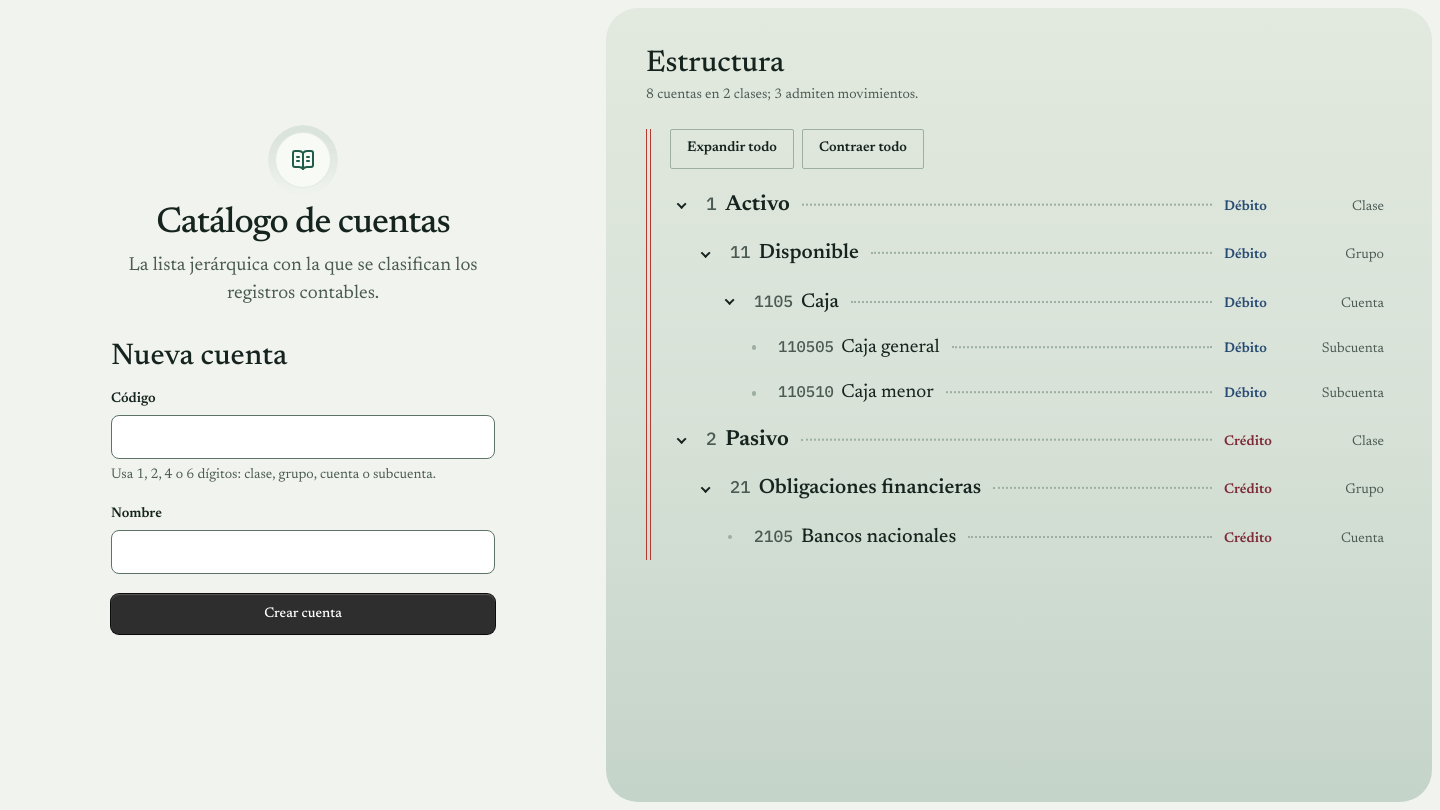
Test: AccountsPage › deleting › deletes an account after confirming and refreshes the tree
Expected: the list is shown, [670,181,1392,560]
Click the text "Caja menor" at coordinates (888, 393), box [841,378,934,408]
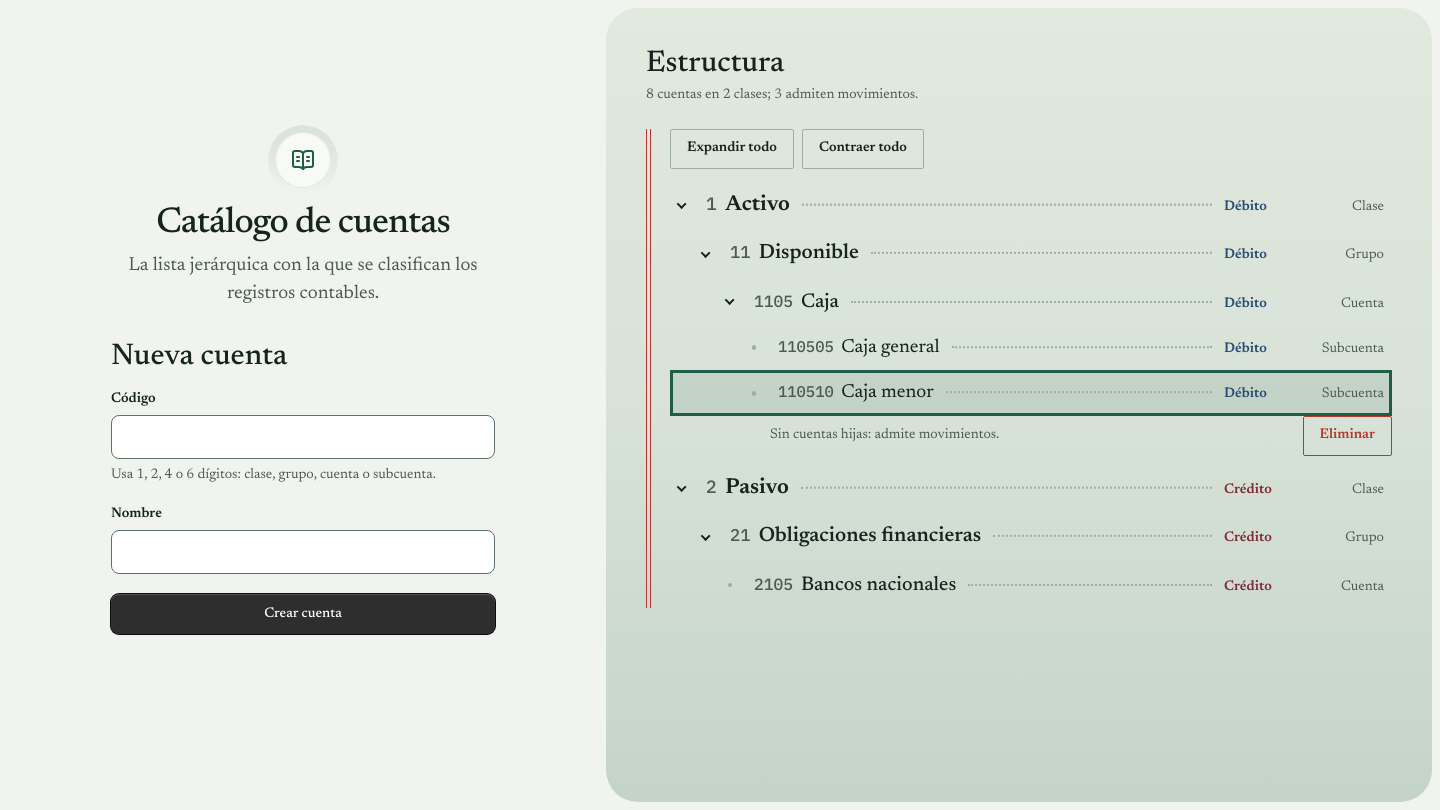
Click the button with aria-label "Eliminar 110510 Caja menor" at coordinates (1347, 436), box [1303,416,1392,456]
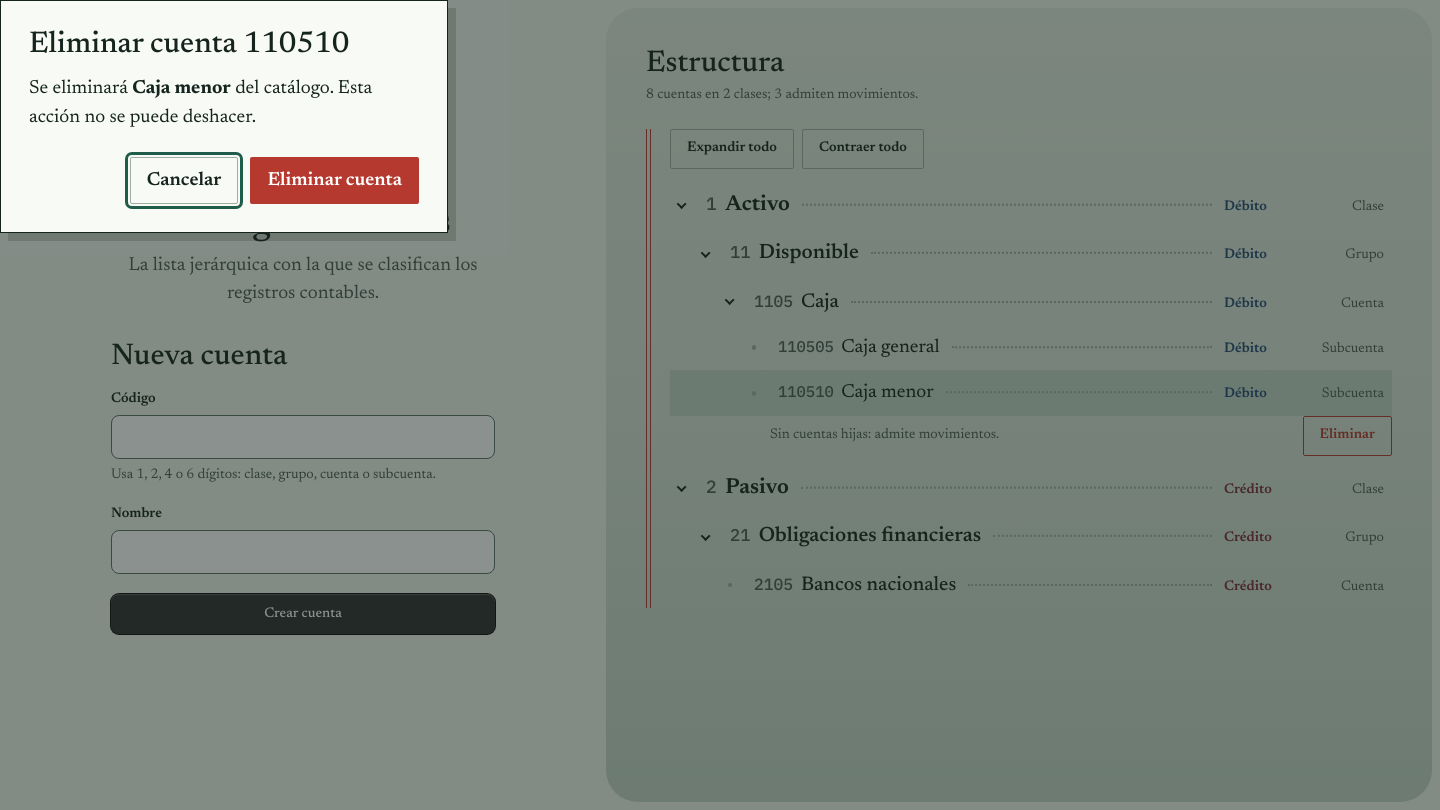
Result: the text "Caja menor" is shown at [132,79,231,98]
Click the button "Eliminar cuenta" at coordinates (335, 180), box [250,156,419,204]
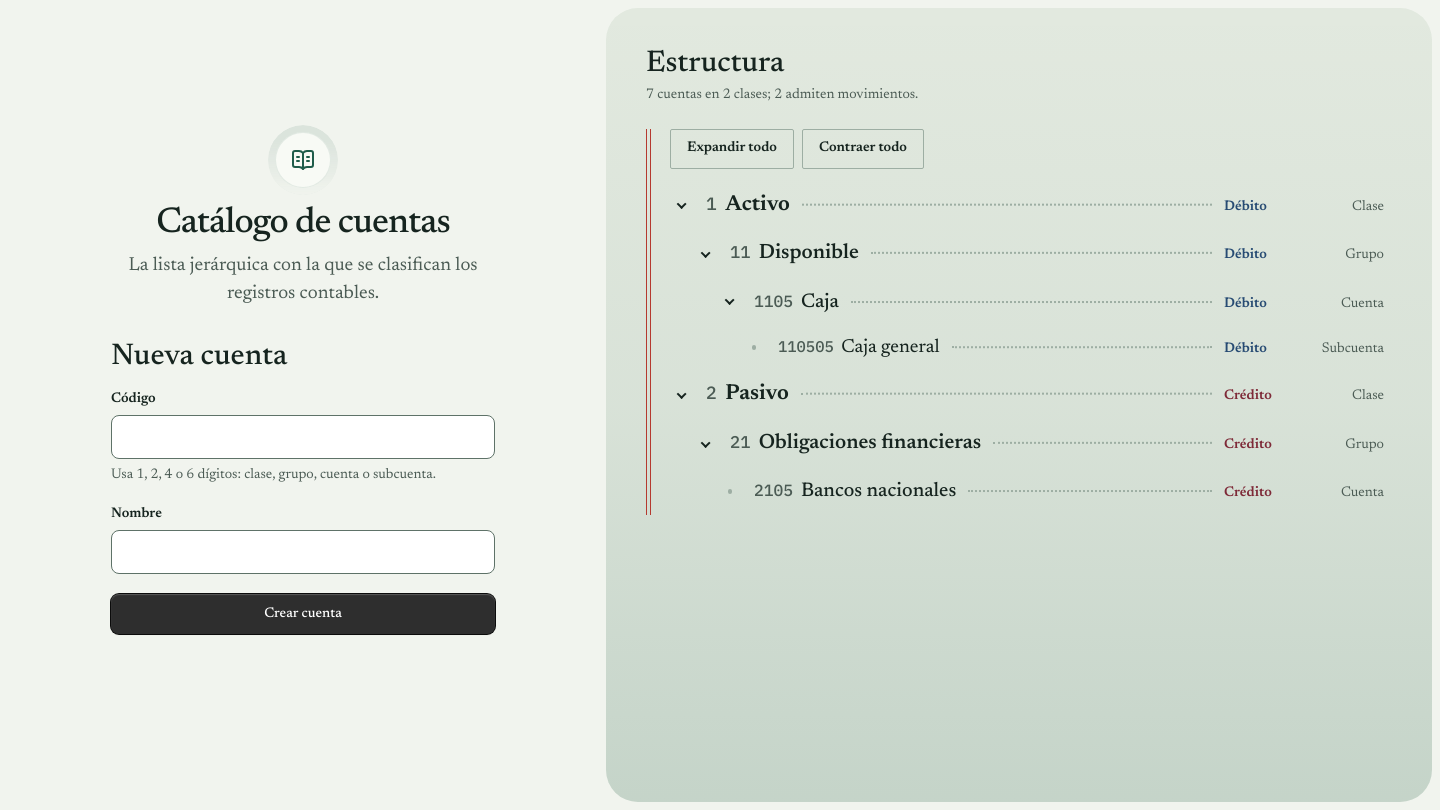
Result: the text "Caja menor" is gone
Result: the dialog is gone
